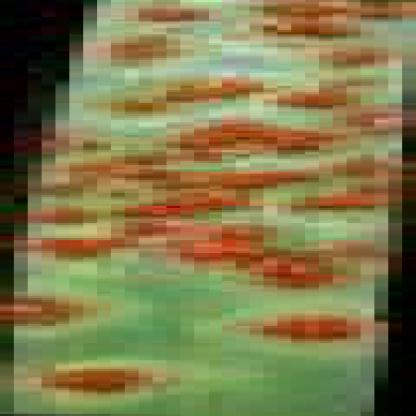wheat Stem Rust: (54, 161, 410, 208), (126, 2, 404, 32), (21, 218, 264, 250), (149, 77, 363, 105), (154, 120, 321, 150), (220, 314, 388, 343), (215, 256, 352, 282), (60, 366, 161, 393), (304, 43, 388, 73), (88, 41, 168, 62), (0, 303, 60, 319), (376, 113, 415, 135)
